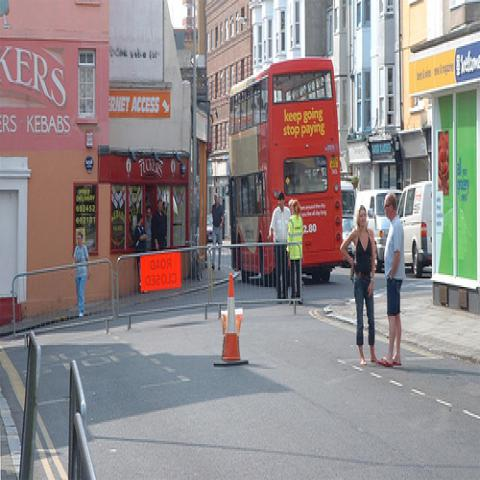bus: (227, 58, 344, 285)
car: (352, 189, 402, 274), (398, 179, 438, 276), (342, 247, 353, 268), (206, 216, 213, 244)
truck: (396, 180, 432, 278)
